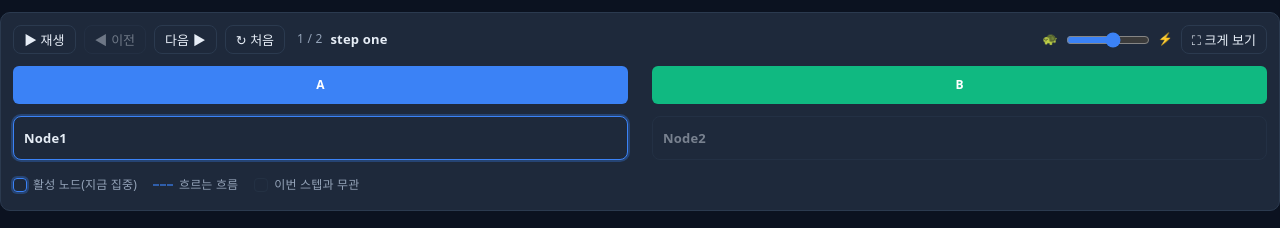
Test: FlowPlayer › play button toggles to 일시정지 label
Click the button "▶ 재생" at (44, 40), box [13,25,76,54]
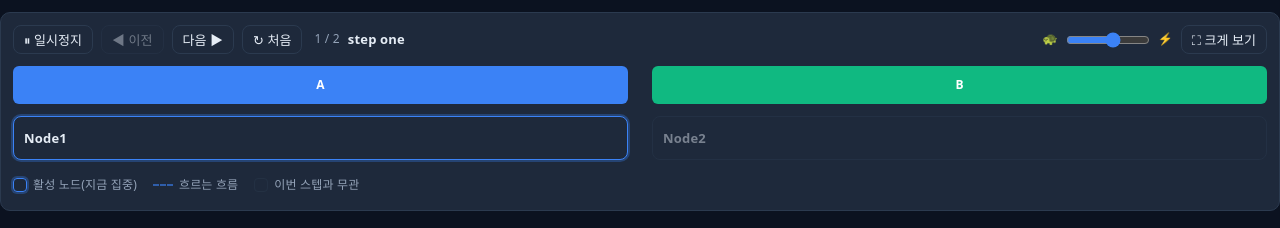
Expected: the button "⏸ 일시정지" is shown, [13,25,93,54]
